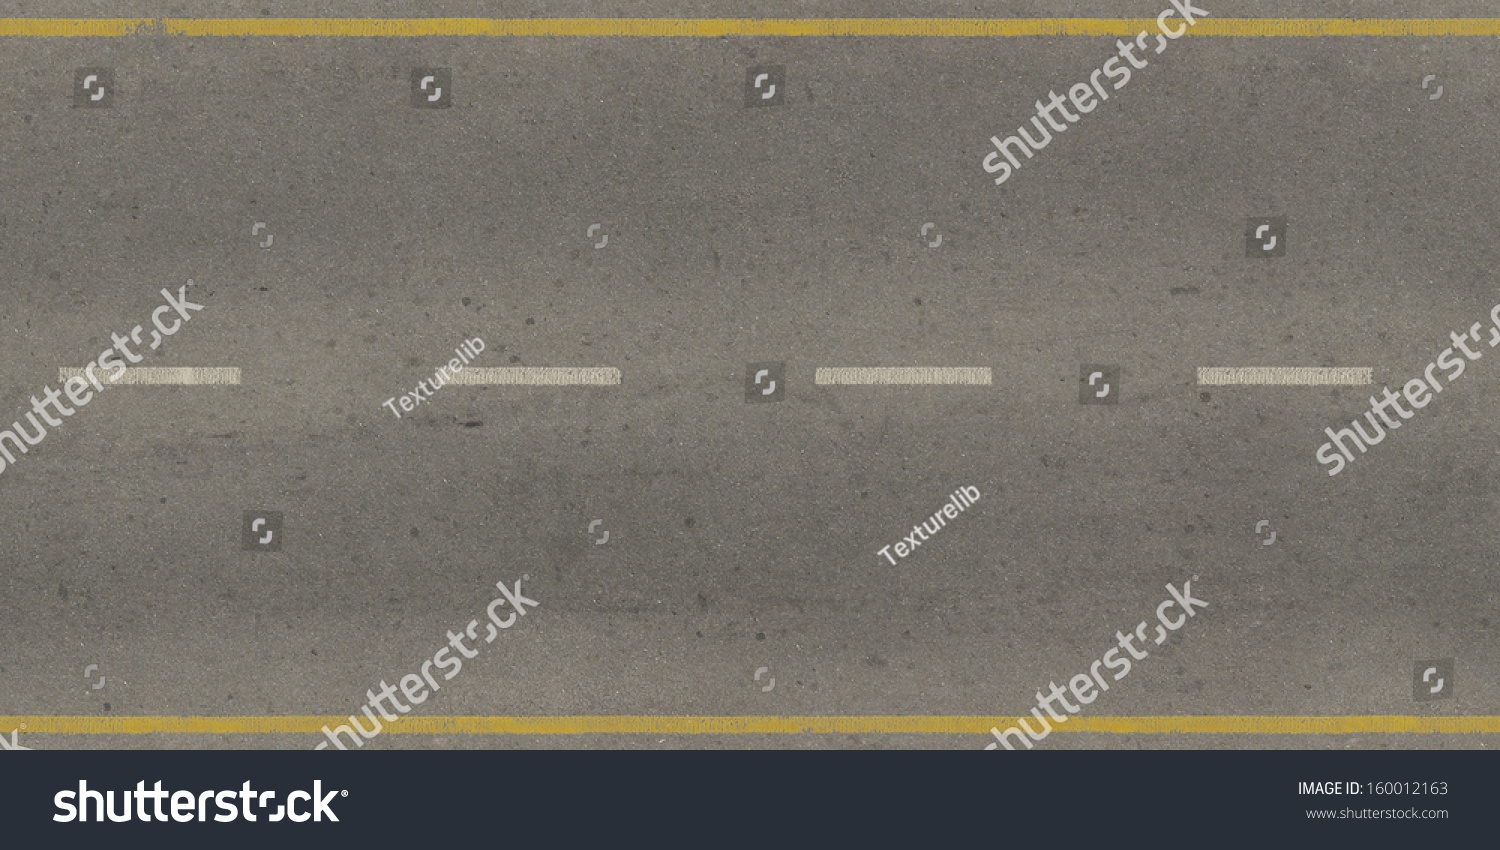LaneMark: (432, 365, 621, 388), (58, 365, 244, 386), (1197, 364, 1377, 385), (813, 365, 991, 383)
